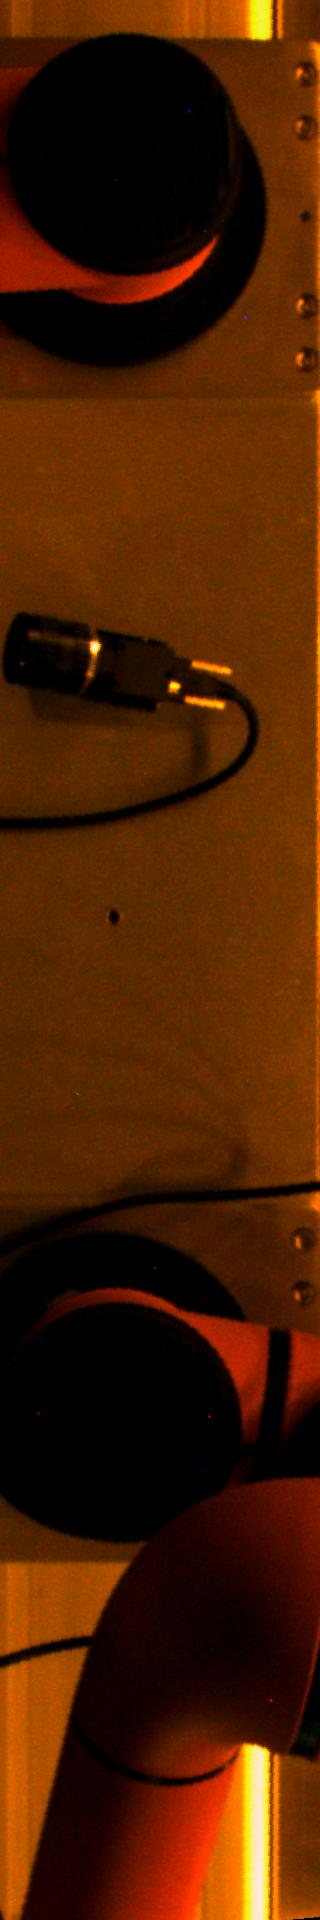keyPoint_2: (98, 902, 128, 932)
